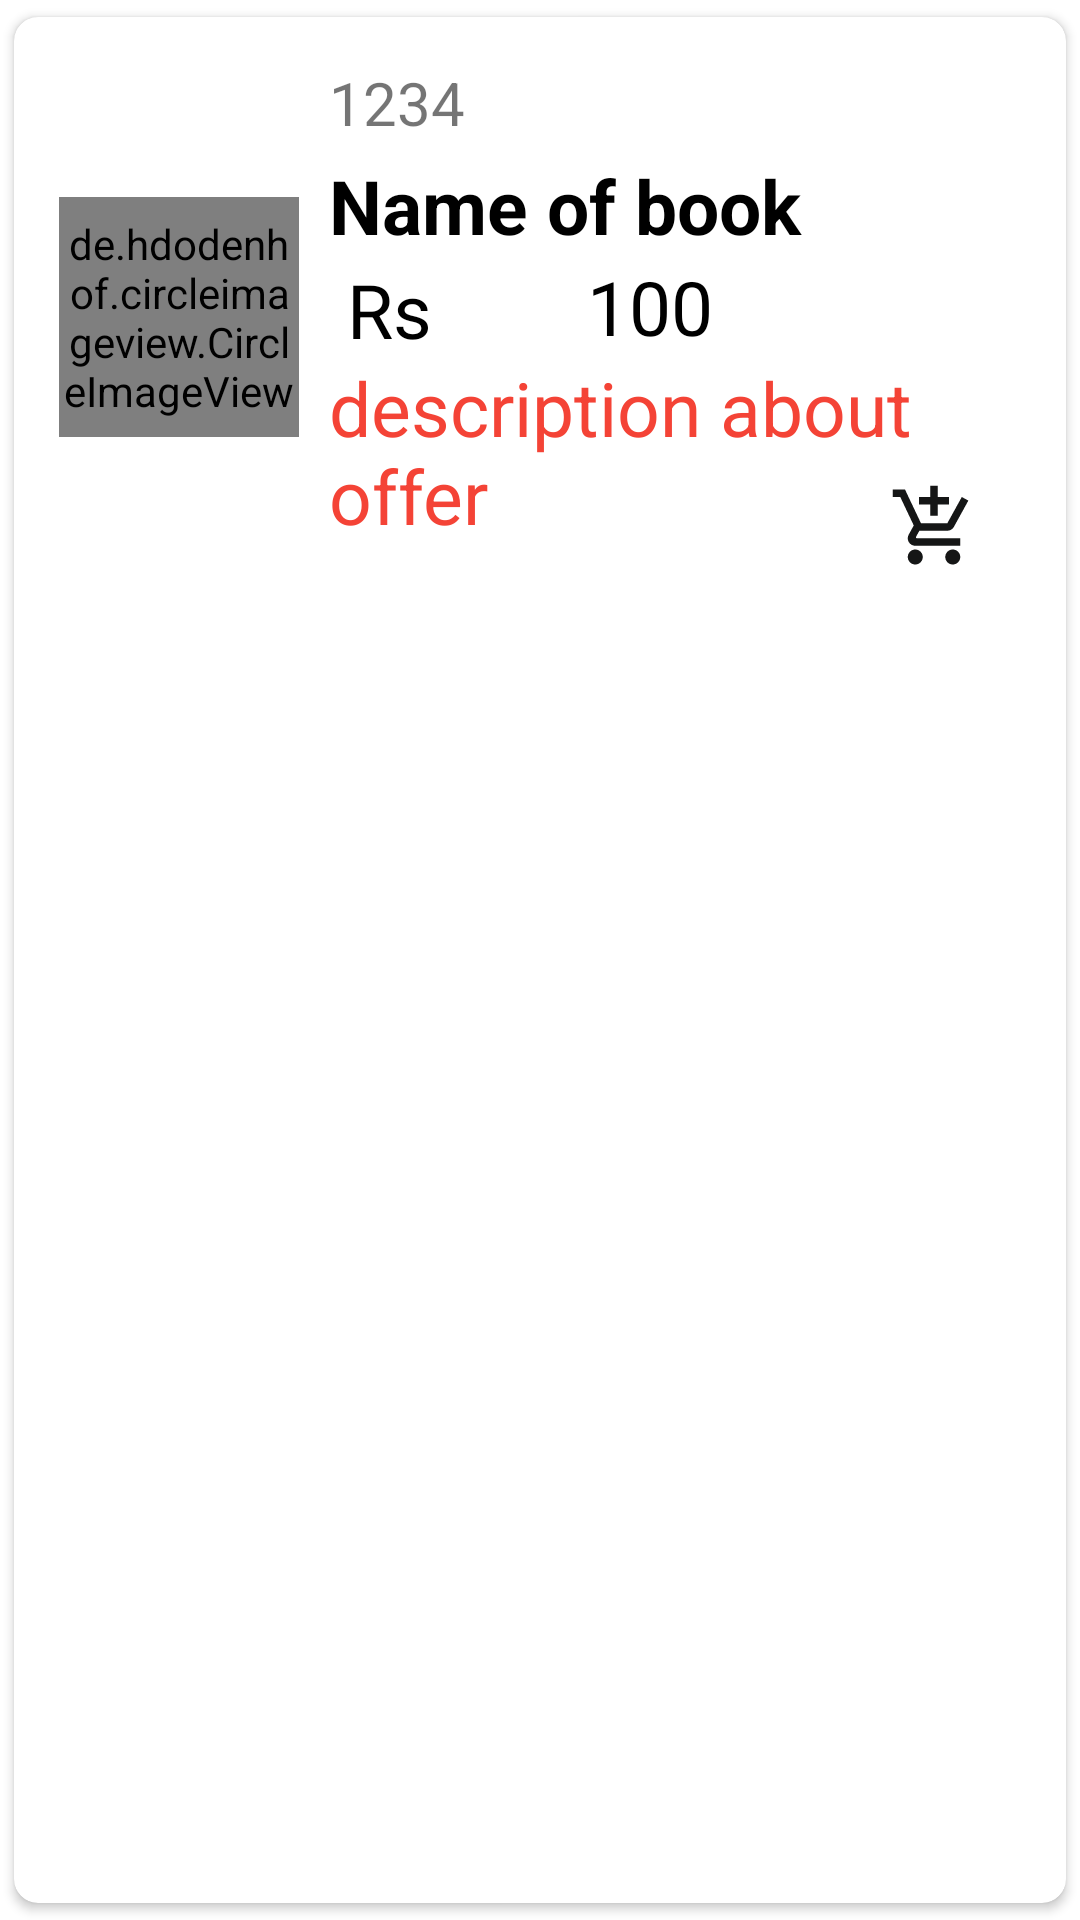

Icons on this 1080w x 1920h Android screen, each with its box as (x1, y1, x2, y2):
add shopping cart: (892, 485, 969, 565)
